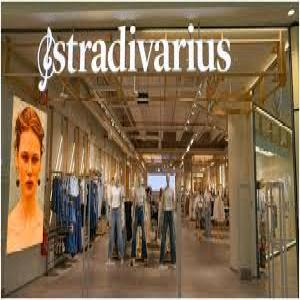stradivarius: (30, 23, 238, 89)
